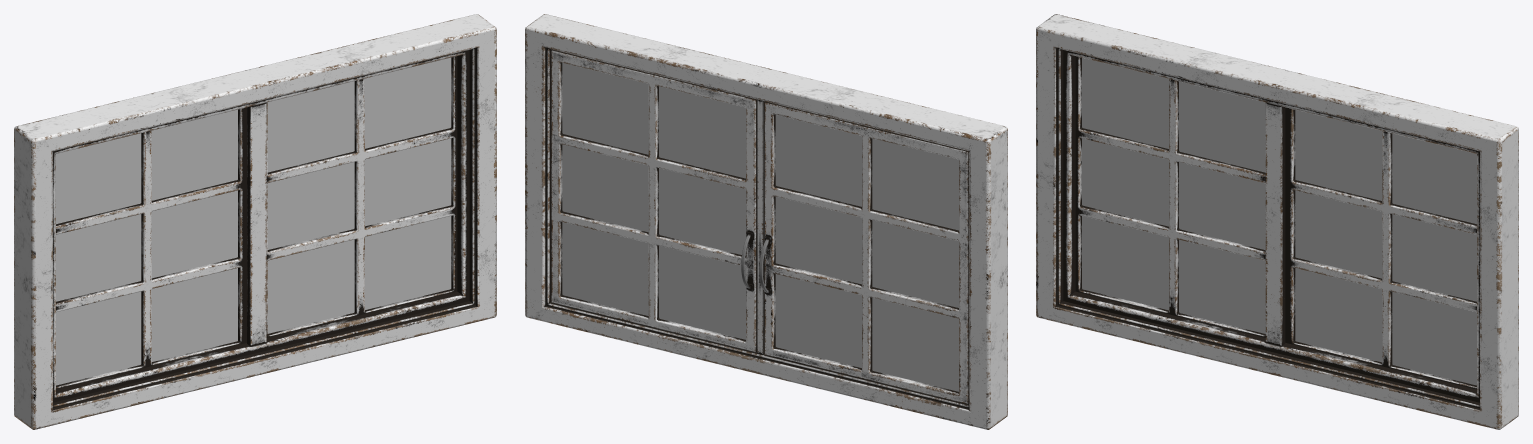
Rendered from WIndow.fbx.
The picture shows the model from 3 angles, left to right: view 1: azimuth 30°, elevation 25°; view 2: azimuth 150°, elevation 25°; view 3: azimuth 330°, elevation 25°; orthographic projection.
Visible parts, largest first — view 1: GLASS_4, F, L, R; view 2: GLASS_4, F, L, R; view 3: GLASS_4, F, L, R.
Boxes of the visible parts, bbox=[...] form: GLASS_4: bbox=[56, 57, 451, 385]; F: bbox=[14, 14, 496, 429]; L: bbox=[266, 56, 457, 337]; R: bbox=[56, 107, 246, 389]; GLASS_4: bbox=[562, 63, 958, 391]; F: bbox=[525, 14, 1007, 429]; L: bbox=[551, 49, 757, 352]; R: bbox=[759, 101, 969, 404]; GLASS_4: bbox=[1082, 57, 1476, 385]; F: bbox=[1036, 14, 1518, 429]; L: bbox=[1285, 107, 1476, 389]; R: bbox=[1075, 56, 1265, 337].
Size of the model in its own units: 4.82 by 0.4499 by 2.88.
